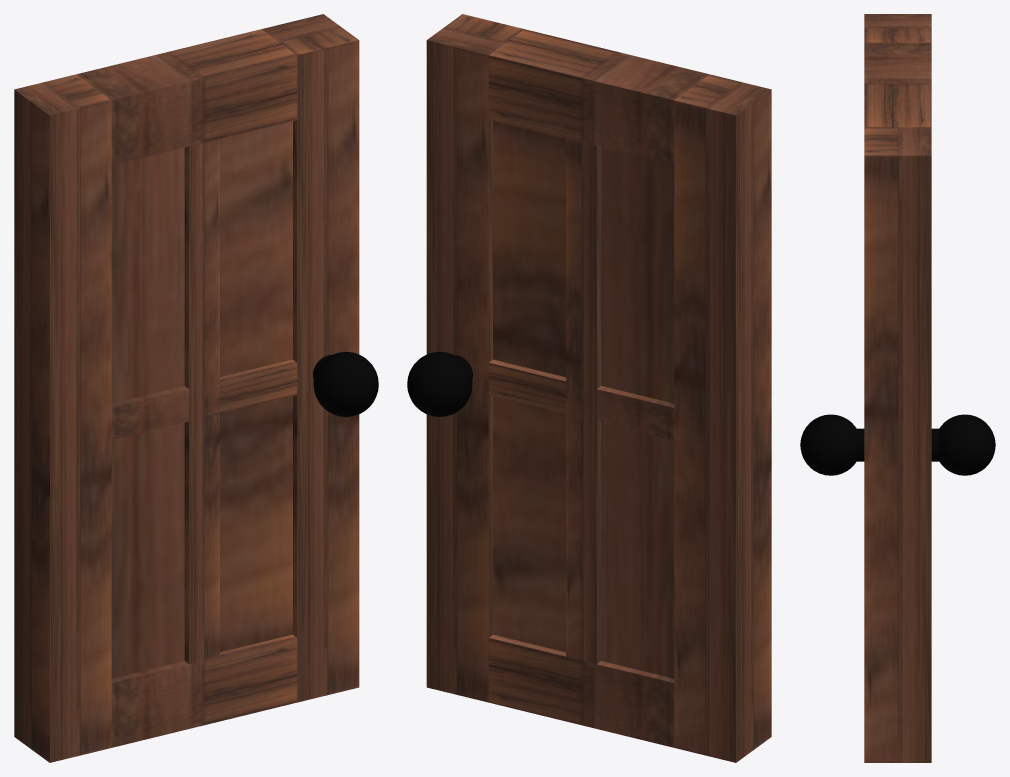
File: Door.fbx
3 renders of one model, left to right at view 1: azimuth 30°, elevation 25°; view 2: azimuth 150°, elevation 25°; view 3: azimuth 270°, elevation 25°, orthographic. The views are drawn at different scales.
Parts seen in each view (by area): view 1: Body, Right, Left, Top, MiddleV, Down, MiddleH, Sphere; view 2: Body, Right, Left, Top, MiddleV, Down, MiddleH, Sphere__1_; view 3: Left, Top, Sphere, Sphere__1_, Right, Cylinder.
Part boxes in pixels (x1,y1,x2,y2): Body: (111,121,292,678); Right: (14,74,111,762); Left: (262,14,359,702); Top: (76,29,297,164); MiddleV: (184,139,219,664); Down: (111,634,297,747); MiddleH: (111,359,297,440); Sphere: (313,351,378,416); Body: (493,121,674,678); Right: (674,74,771,762); Left: (426,14,523,702); Top: (488,29,709,164); MiddleV: (566,139,601,664); Down: (488,634,674,747); MiddleH: (488,359,674,440); Sphere__1_: (407,351,472,416); Left: (864,127,931,762); Top: (864,42,931,127); Sphere: (800,414,856,475); Sphere__1_: (939,414,995,475); Right: (864,14,931,42); Cylinder: (856,428,939,461).
Bounding box in the file's own units: 300 × 600 × 175.
